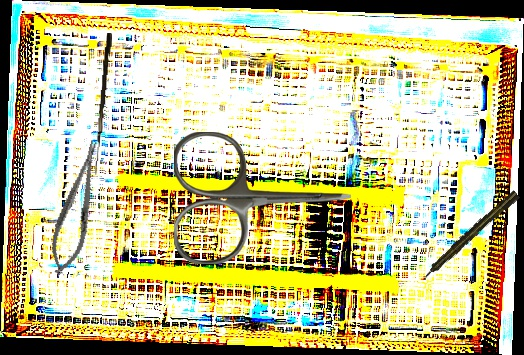Handpiece: (419, 189, 521, 283)
Hook Surgical: (94, 32, 113, 176)
Iris Scissors: (174, 132, 351, 264)
Needle Holder: (43, 136, 111, 279)
